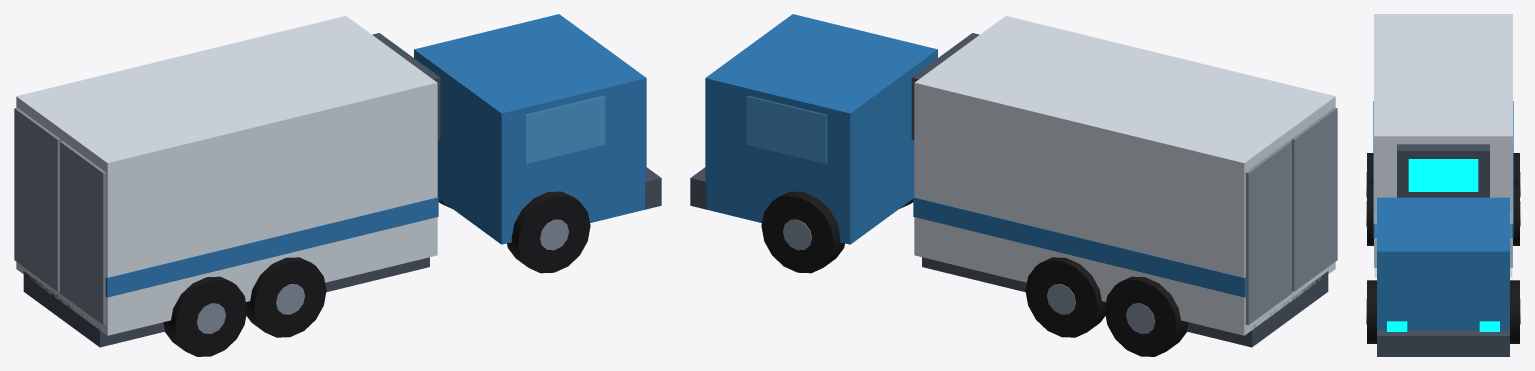
The model's file is vehicle.glb.
The picture shows the model from 3 angles, left to right: view 1: azimuth 30°, elevation 25°; view 2: azimuth 150°, elevation 25°; view 3: azimuth 270°, elevation 25°; orthographic projection. The views are drawn at different scales.
Visible parts, largest first — view 1: Trailer_Body, Cabin_Body, Trailer_Door_L, Trailer_Door_R, Trailer_Stripe, Wheel_1, Wheel_5, Wheel_3, Cabin_SideGlass_L, Trailer_Chassis, Trailer_CoolingUnit, WheelHub_1 (+3 smaller); view 2: Trailer_Body, Cabin_Body, Trailer_Door_R, Trailer_Door_L, Trailer_Stripe, Wheel_2, Wheel_6, Wheel_4, Cabin_SideGlass_R, Trailer_Chassis, Trailer_CoolingUnit, WheelHub_2 (+3 smaller); view 3: Trailer_Body, Cabin_Body, Cabin_Bumper, Trailer_CoolingUnit, Trailer_CoolingGrille, Wheel_1, Wheel_2, Wheel_3, Wheel_4, Trailer_Stripe, Headlight_L, Headlight_R (+2 smaller).
Boxes of the visible parts, box(x1,y1,x2,y2) form: Trailer_Body: box(16, 16, 437, 335); Cabin_Body: box(414, 14, 646, 244); Trailer_Door_L: box(60, 141, 106, 325); Trailer_Door_R: box(14, 107, 60, 291); Trailer_Stripe: box(105, 197, 438, 297); Wheel_1: box(507, 191, 590, 273); Wheel_5: box(163, 276, 247, 356); Wheel_3: box(246, 257, 326, 337); Cabin_SideGlass_L: box(525, 96, 604, 163); Trailer_Chassis: box(23, 257, 429, 347); Trailer_CoolingUnit: box(372, 33, 440, 139); WheelHub_1: box(539, 219, 568, 250); Trailer_Body: box(914, 16, 1335, 335); Cabin_Body: box(705, 14, 937, 244); Trailer_Door_R: box(1245, 141, 1291, 325); Trailer_Door_L: box(1291, 107, 1337, 291); Trailer_Stripe: box(913, 197, 1246, 297); Wheel_2: box(761, 191, 844, 273); Wheel_6: box(1104, 276, 1188, 356); Wheel_4: box(1025, 257, 1105, 337); Cabin_SideGlass_R: box(747, 96, 826, 163); Trailer_Chassis: box(922, 257, 1328, 347); Trailer_CoolingUnit: box(911, 33, 979, 139); WheelHub_2: box(783, 219, 812, 250); Trailer_Body: box(1374, 14, 1512, 267); Cabin_Body: box(1377, 197, 1509, 330); Cabin_Bumper: box(1377, 330, 1509, 356); Trailer_CoolingUnit: box(1397, 144, 1489, 197); Trailer_CoolingGrille: box(1408, 159, 1478, 191); Wheel_1: box(1367, 280, 1376, 343); Wheel_2: box(1510, 280, 1519, 343); Wheel_3: box(1367, 182, 1373, 245); Wheel_4: box(1513, 182, 1519, 245); Trailer_Stripe: box(1373, 101, 1513, 238); Headlight_L: box(1387, 321, 1407, 331); Headlight_R: box(1479, 321, 1499, 331).
Size of the model in its own units: 8.47 by 3.1 by 2.66.
